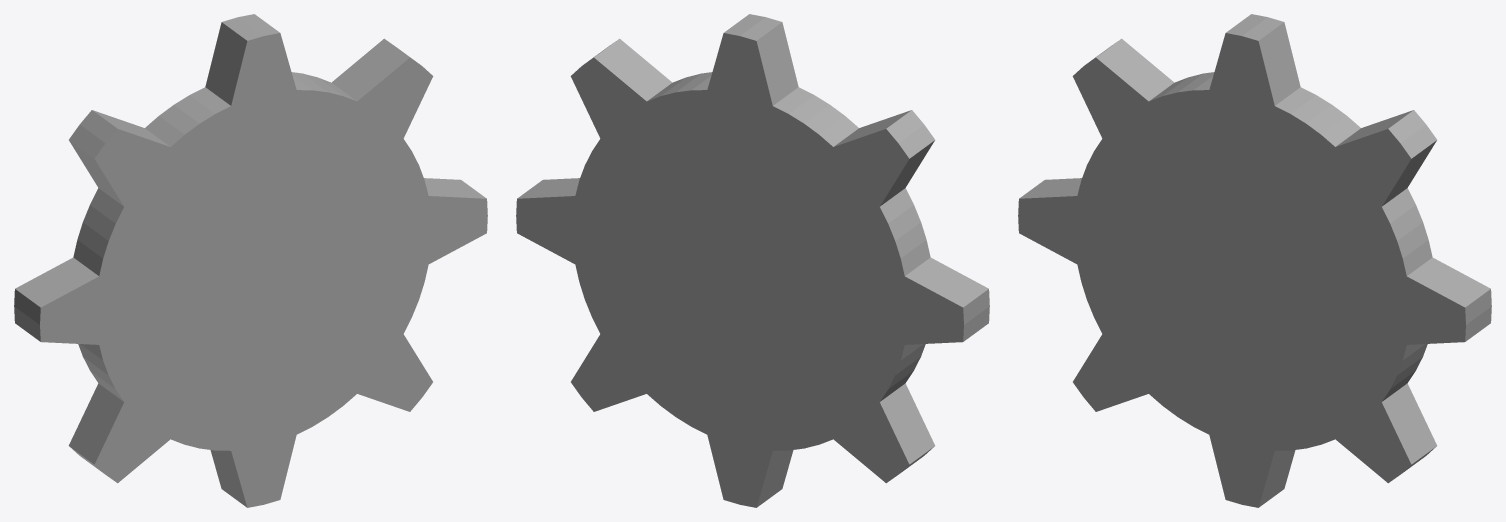
File: gear.obj
3 views of the same model, side by side, from view 1: azimuth 30°, elevation 25°; view 2: azimuth 150°, elevation 25°; view 3: azimuth 330°, elevation 25° (orthographic).
Visible parts, largest first — view 1: 円柱; view 2: 円柱; view 3: 円柱.
Boxes of the visible parts, x1,y1,x2,y2 form: 円柱: (14,14,487,507); 円柱: (516,14,989,507); 円柱: (1018,14,1491,507).
Bounding box in the file's own units: 2 × 2 × 0.2.
